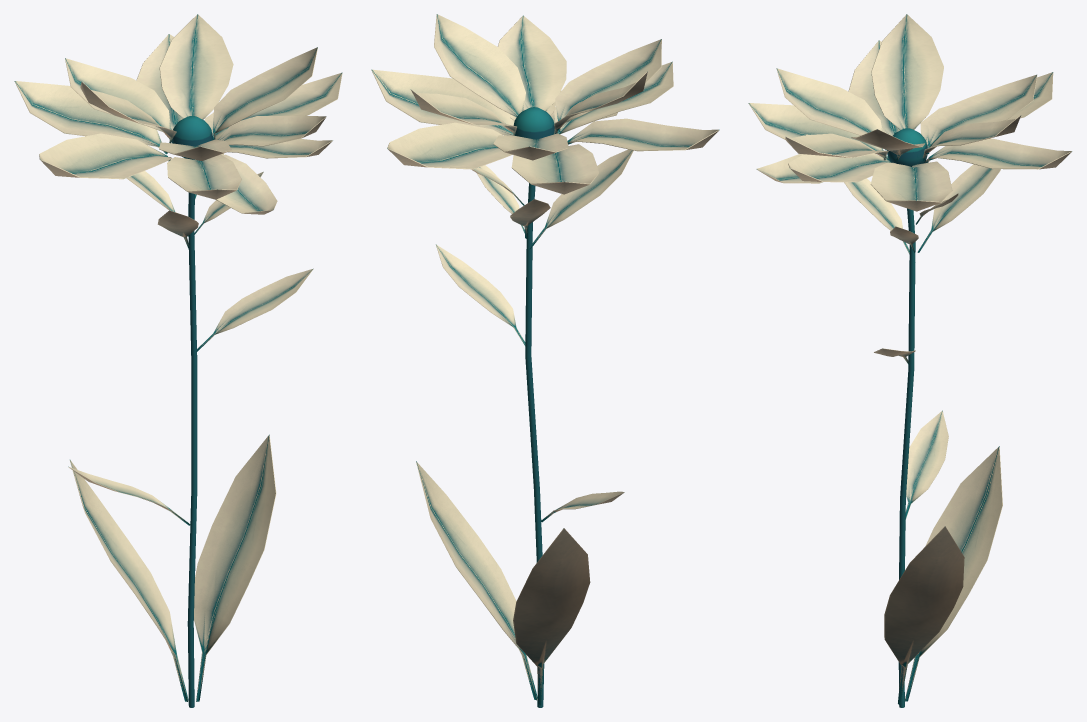
File: flower 1.FBX
3 renders of one model, left to right at view 1: azimuth 30°, elevation 25°; view 2: azimuth 150°, elevation 25°; view 3: azimuth 270°, elevation 25°, orthographic. The views are drawn at different scales.
Visible parts, largest first — view 1: low poly019, low poly029, low poly018, Cylinder001, low poly033, low poly034, low poly030, low poly025, low poly032, low poly028, low poly020, low poly036 (+8 smaller); view 2: low poly018, low poly019, low poly030, low poly035, low poly028, Cylinder001, low poly036, low poly033, low poly027, low poly034, low poly020, low poly022 (+7 smaller); view 3: low poly019, low poly026, low poly018, low poly027, Cylinder001, low poly025, low poly036, low poly035, low poly017, low poly031, low poly032, low poly023 (+7 smaller).
Boxes of the visible parts, box(x1,y1,x2,y2) form: low poly019: box(194, 434, 276, 701); low poly029: box(159, 14, 233, 119); low poly018: box(69, 460, 188, 701); Cylinder001: box(171, 116, 213, 707); low poly033: box(39, 133, 172, 179); low poly034: box(14, 81, 167, 154); low poly030: box(212, 47, 317, 139); low poly025: box(65, 58, 170, 131); low poly032: box(167, 154, 241, 199); low poly028: box(218, 116, 326, 146); low poly020: box(196, 268, 313, 351); low poly036: box(205, 72, 342, 139); low poly018: box(513, 528, 590, 705); low poly019: box(416, 461, 537, 700); low poly030: box(434, 14, 525, 117); low poly035: box(387, 122, 512, 169); low poly028: box(497, 15, 566, 111); Cylinder001: box(513, 107, 554, 707); low poly036: box(371, 69, 514, 135); low poly033: box(567, 118, 719, 151); low poly027: box(555, 39, 661, 132); low poly034: box(511, 144, 599, 194); low poly020: box(436, 244, 525, 345); low poly022: box(529, 149, 633, 248); low poly019: box(884, 526, 964, 705); low poly026: box(871, 14, 943, 130); low poly018: box(905, 446, 1002, 701); low poly027: box(776, 68, 885, 149); Cylinder001: box(887, 128, 927, 707); low poly025: box(927, 74, 1037, 153); low poly036: box(870, 161, 952, 211); low poly035: box(925, 138, 1072, 169); low poly017: box(901, 410, 948, 519); low poly031: box(788, 153, 895, 182); low poly032: box(748, 103, 888, 160); low poly023: box(917, 164, 1000, 252).
Bounding box in the file's own units: 9.3 × 17.94 × 8.22.
